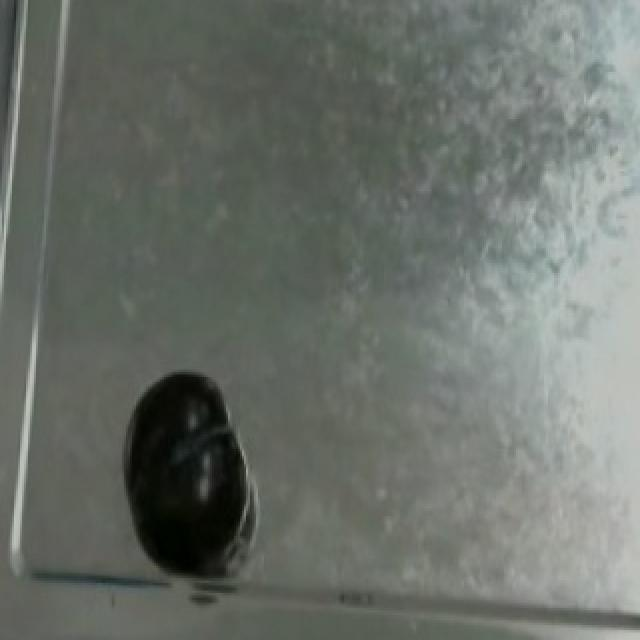Fruit: (116, 414, 254, 586)
